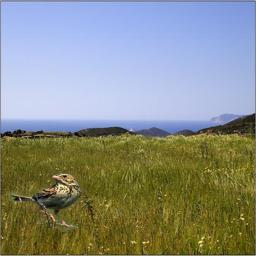Sparrow: (8, 172, 87, 232)
